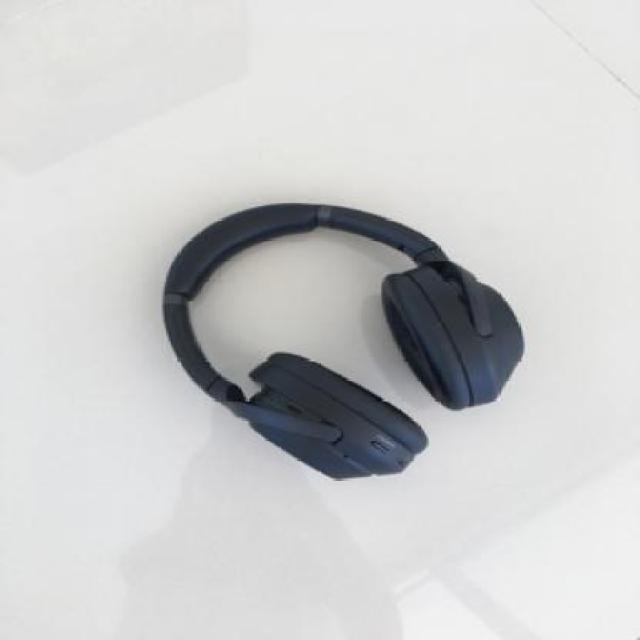earphone: (136, 115, 526, 470)
